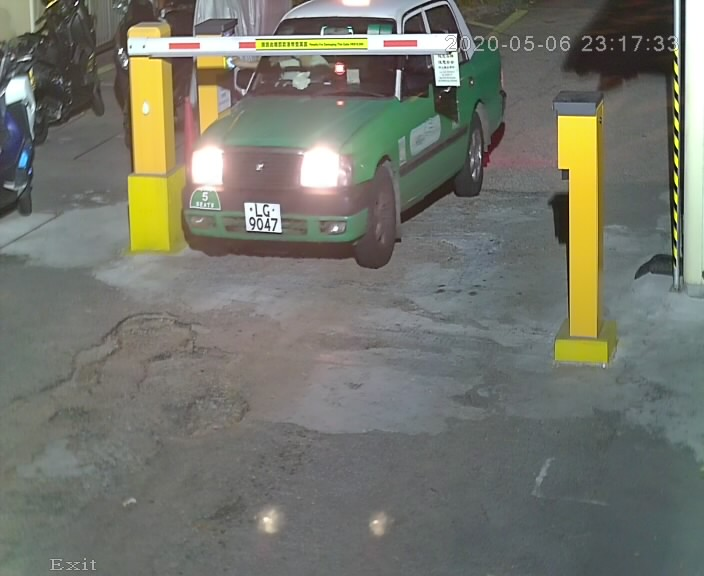taxi: (153, 2, 533, 274)
taxi_mark: (185, 183, 229, 218)
